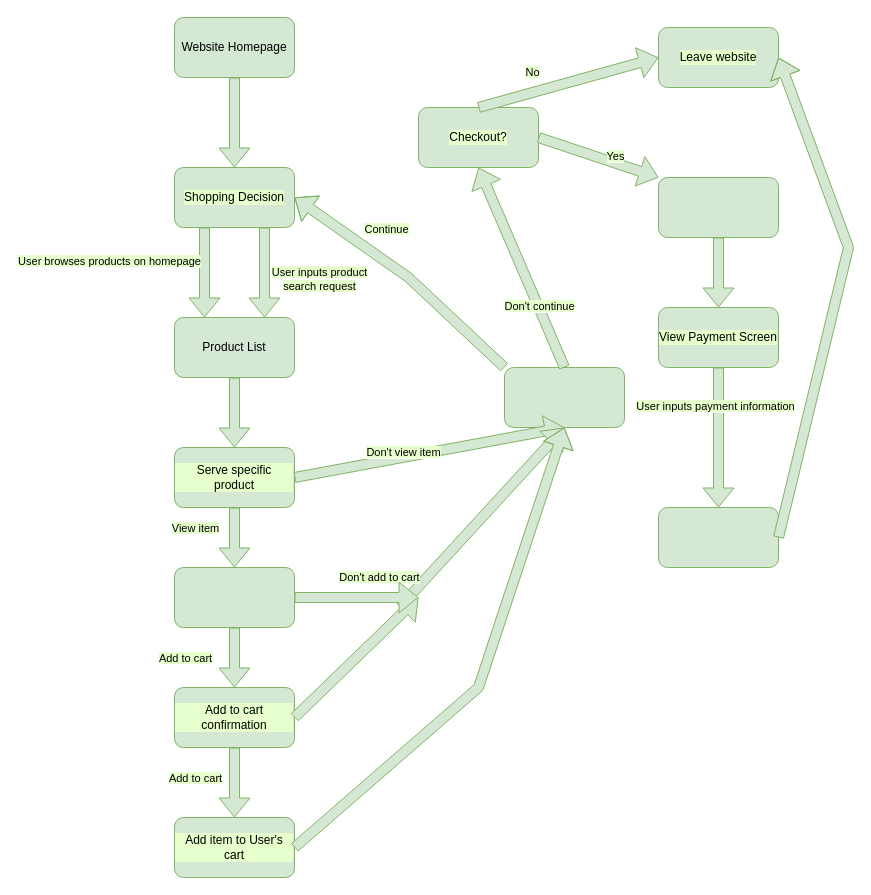
Image size: 871x895. Some labels were removed from this diagram. The centre of each missing label's shape, as x and y in pixels:
Continue Shopping?: point (564, 397)
Order Confirmation Screen, Email is sent: point (718, 537)
Product Webpage: point (234, 597)
View Cart Screen: point (718, 207)
